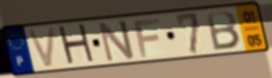7: (174, 10, 201, 56)
B: (205, 10, 242, 52)
F: (132, 16, 163, 59)
H: (56, 22, 98, 68)
N: (96, 19, 137, 65)
V: (25, 25, 59, 71)
